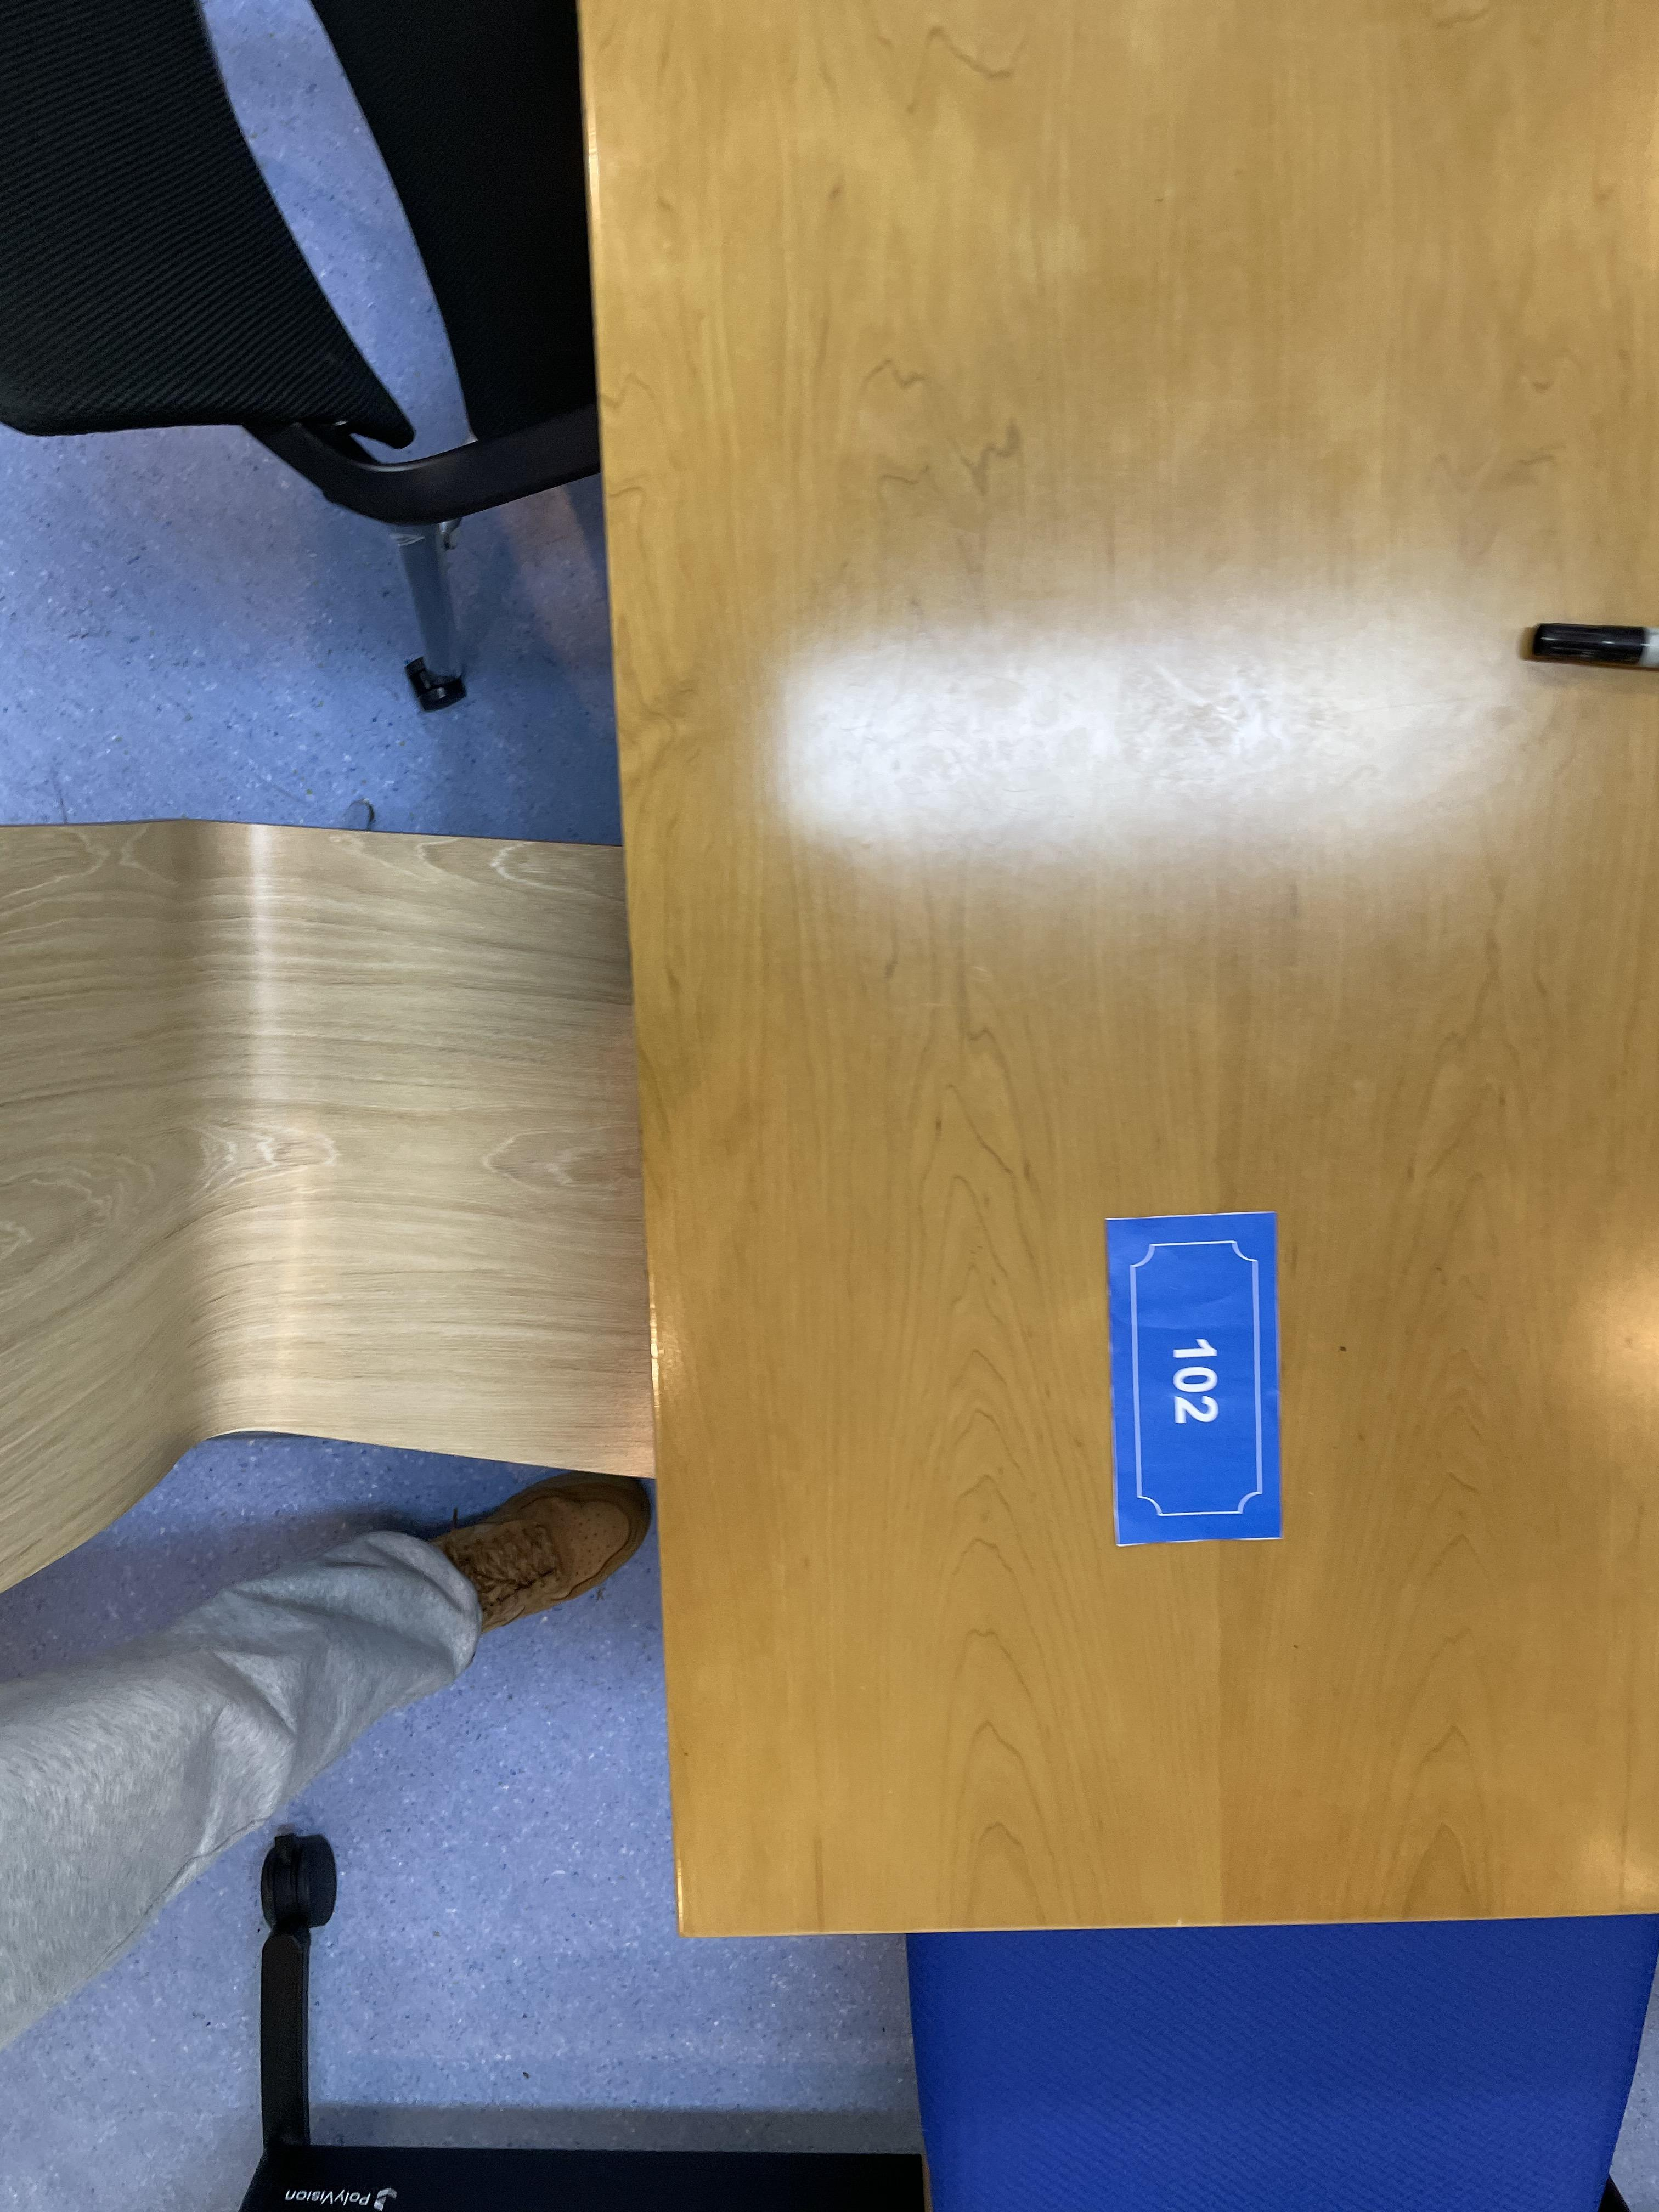Card: (1065, 1109, 1310, 1595)
